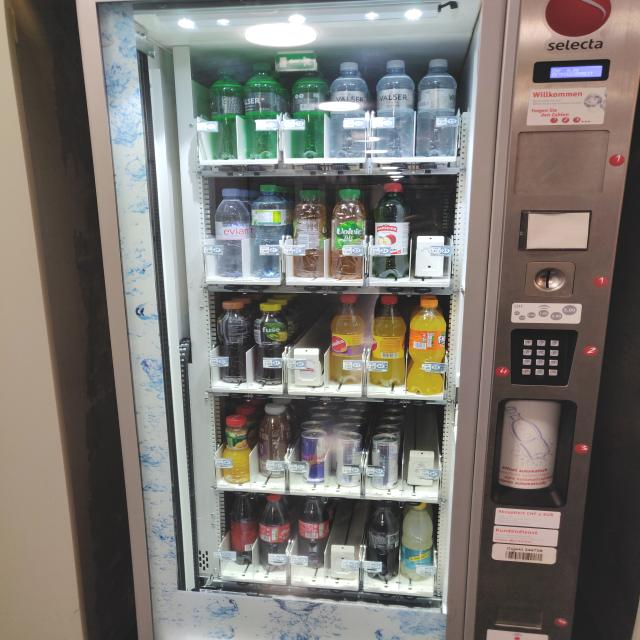coke__flasche_50__54491472: (256, 496, 290, 561), (297, 496, 328, 561)
coke_zero_flasche_50__5449000131836: (365, 502, 399, 580)
evian___50__3068320353500: (213, 183, 245, 277)
fanta___50__40822938: (406, 296, 450, 395)
fuse_lemon__50__5449000235947: (252, 300, 288, 383)
fuse_peach__50__5449000236623: (214, 300, 253, 378)
granini_orange__50__: (222, 416, 252, 483)
mezzomix___50__54490840: (232, 494, 258, 562)
ramseier_jusdepomme__50__7610057001078: (371, 180, 413, 278)
redbull___33__90162909: (370, 438, 402, 490), (332, 435, 362, 487), (300, 433, 328, 481)
schweppes_bitterlemon__50__: (398, 506, 436, 580)
sinalco___50__: (371, 297, 408, 388), (328, 297, 367, 383)
valser_classic__50__76404160: (243, 61, 285, 161), (206, 65, 246, 161), (294, 64, 328, 157)
valser_still__50__7610335002575: (373, 57, 420, 158), (412, 58, 459, 156), (329, 59, 372, 158)
vivitz_classiczitrone__50__: (258, 405, 292, 477)
volvic_teeminze__50__3057640335648: (328, 187, 370, 281), (288, 187, 328, 276)
wasser_-____: (250, 185, 288, 278)
